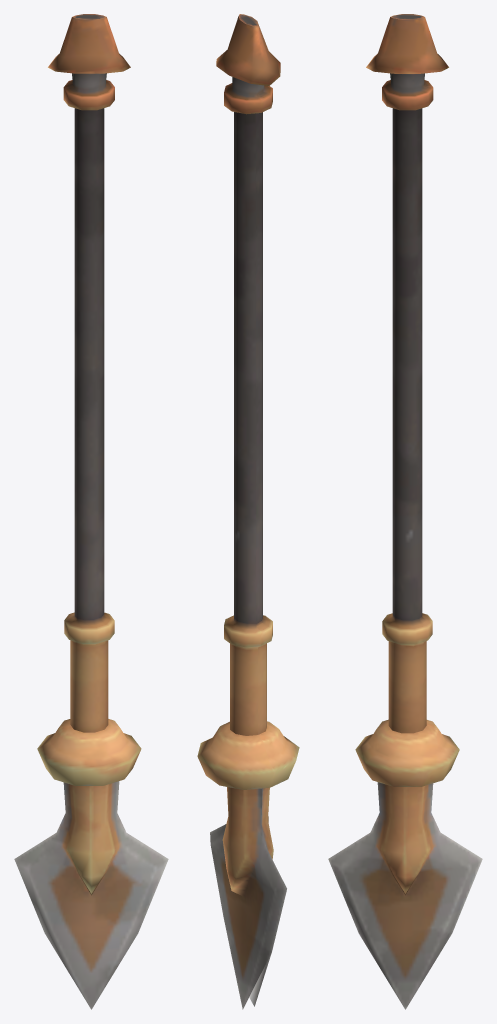
File: SpearSquire.fbx
3 views of the same model, side by side, from view 1: azimuth 90°, elevation 25°; view 2: azimuth 210°, elevation 25°; view 3: azimuth 270°, elevation 25° (orthographic).
Parts seen in each view (by area): view 1: SpearSquire; view 2: SpearSquire; view 3: SpearSquire.
Boxes of the visible parts, <box> form: SpearSquire: <box>14,14,168,1009</box>; SpearSquire: <box>197,14,299,1009</box>; SpearSquire: <box>328,14,482,1009</box>.
Bounding box in the file's own units: 0.1996 × 0.3104 × 2.2.
